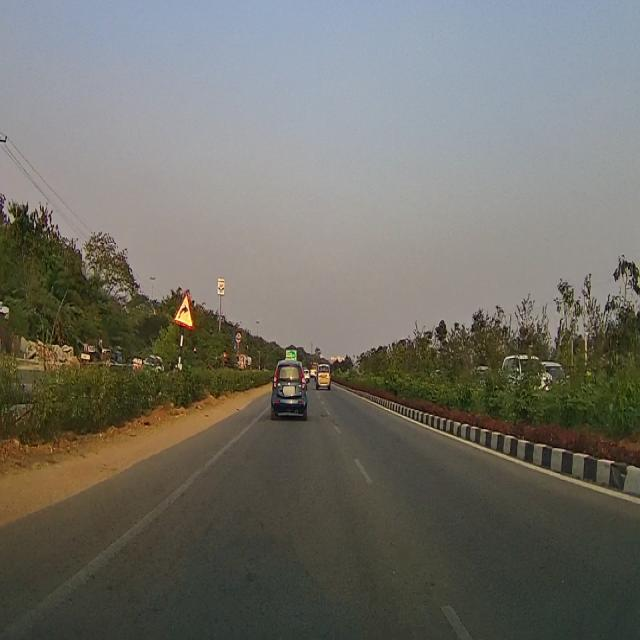right-hand-curve: (175, 288, 192, 328)
